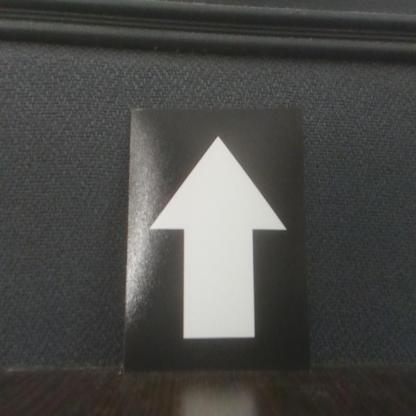up: (130, 110, 306, 366)
